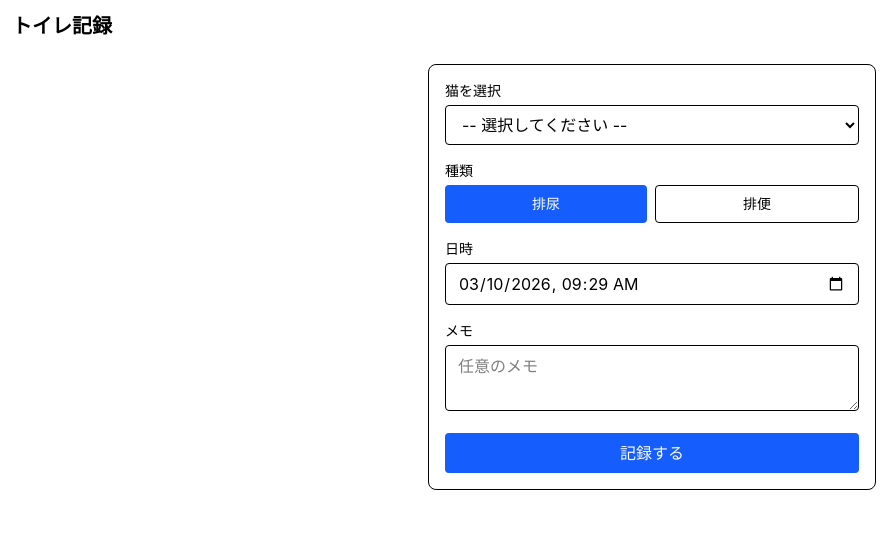
Test case: LogsPage › should show API error on submit failure
Select "たま" in the dropdown labelled "猫を選択" at (652, 125), box [445,105,859,145]
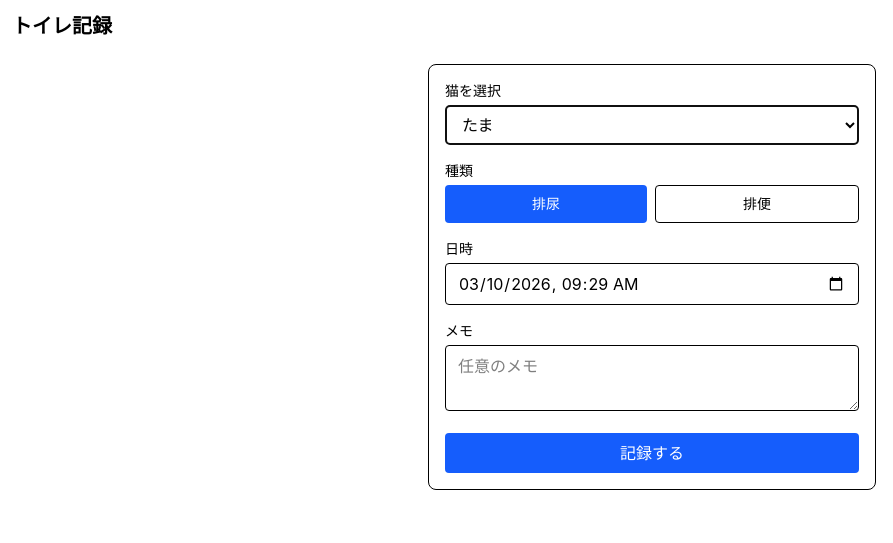
Click the button "記録する" at (652, 453), box [445,433,859,473]
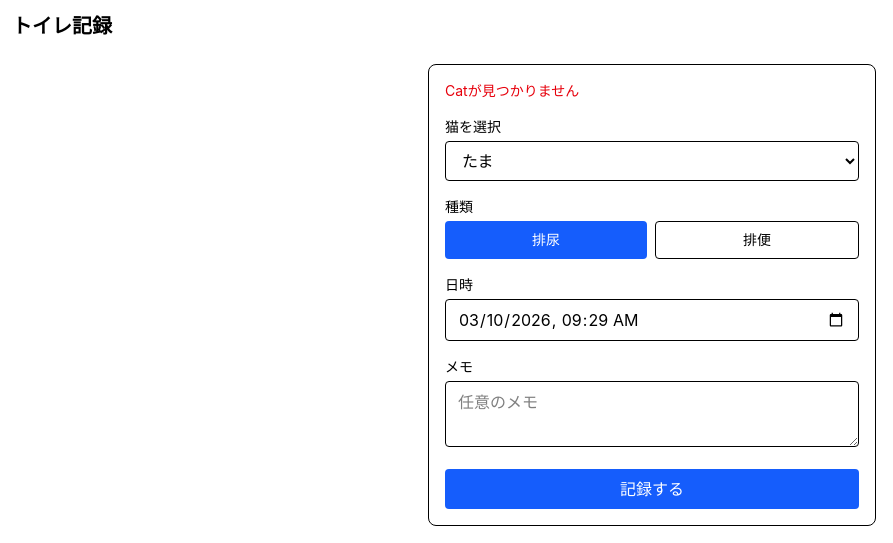
Check: the text "Catが見つかりません" is shown, box [445,82,579,99]
